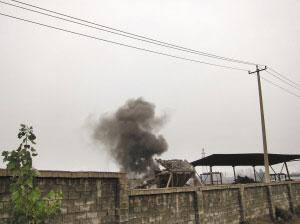smoke: (90, 97, 168, 168)
